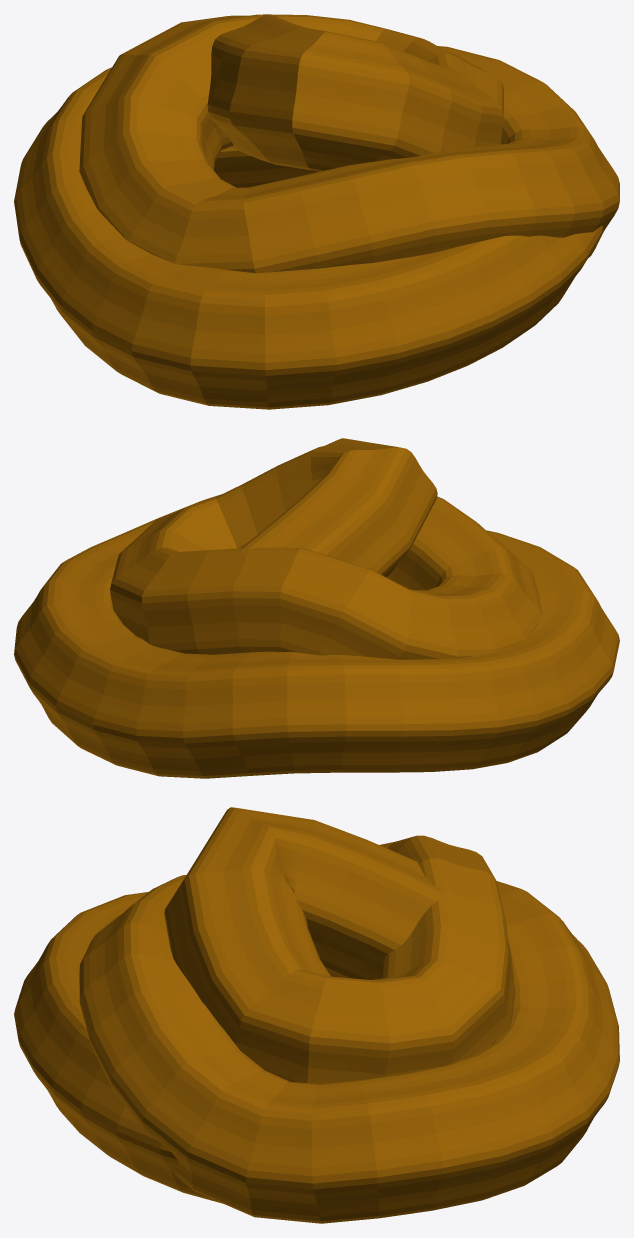
Rendered from cat poo.fbx.
3 renders of one model, top to bottom at view 1: azimuth 30°, elevation 25°; view 2: azimuth 150°, elevation 25°; view 3: azimuth 270°, elevation 25°, orthographic. The views are drawn at different scales.
Parts seen in each view (by area): view 1: Circle; view 2: Circle; view 3: Circle.
Boxes of the visible parts, <box> form: Circle: <box>14,14,619,409</box>; Circle: <box>14,438,619,778</box>; Circle: <box>14,807,619,1223</box>.
Size of the model in its own units: 77.21 by 37.24 by 73.49.
